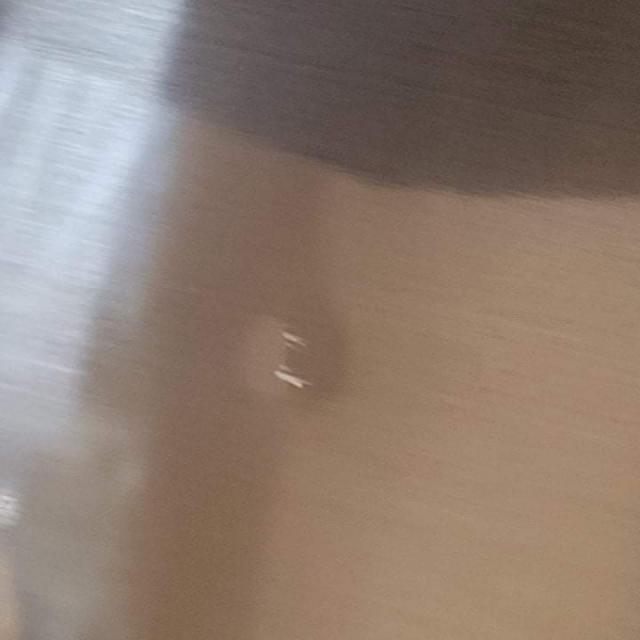dents: (232, 292, 371, 428)
